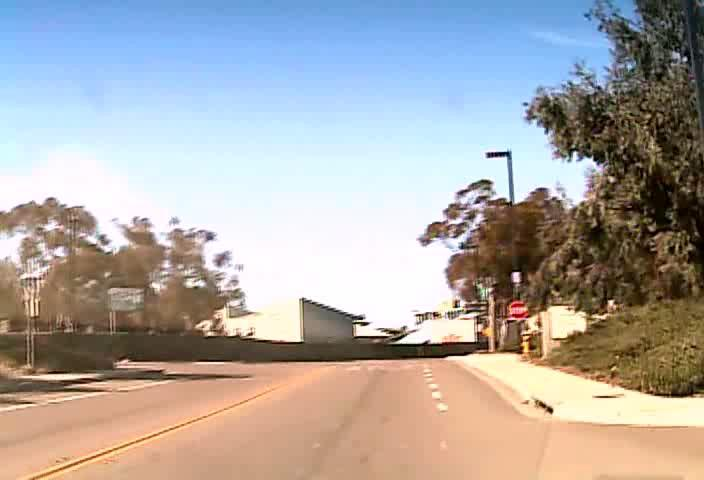stop: (507, 300, 528, 320)
